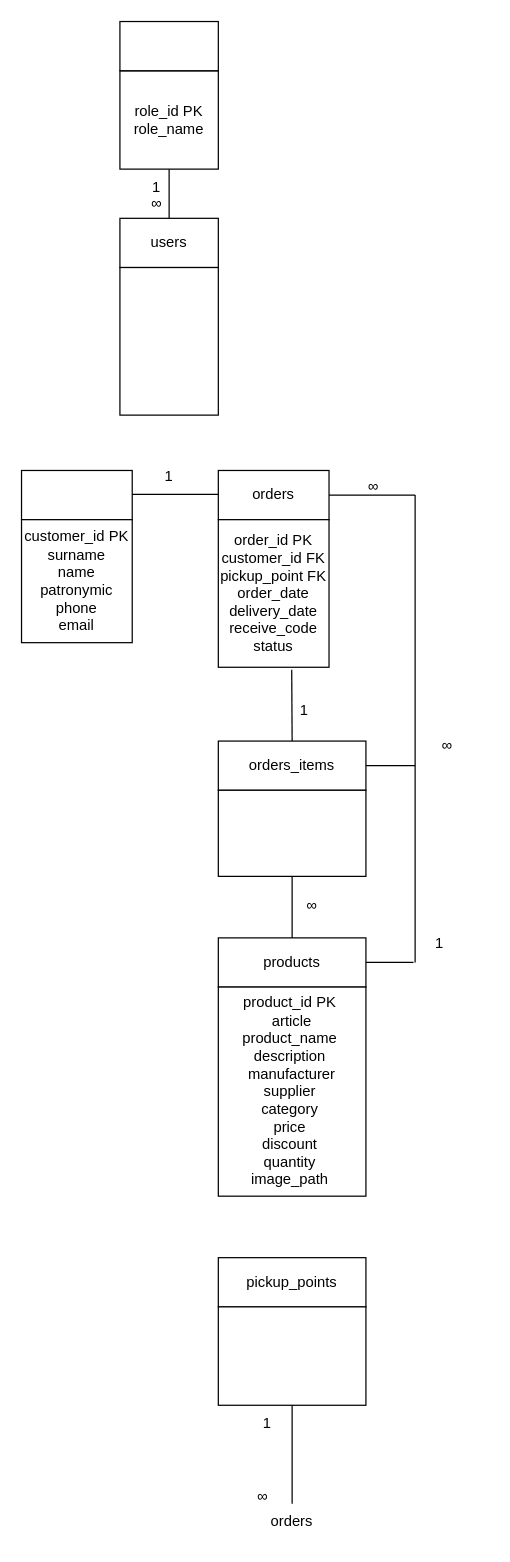
This 510x1562 diagram has some shape labels left out. Here are the shapes that lost their labels. From the top down, the centre of each, then its label:
At (168,45): "roles".
At (168,340): "user_id PK surname name patronymic login password role_id PK".
At (76,494): "customers".
At (291,832): "order_item_id PK order_id FK product_id FK quantity".
At (291,1355): "pickup_point_id PK city street house work_hours".
